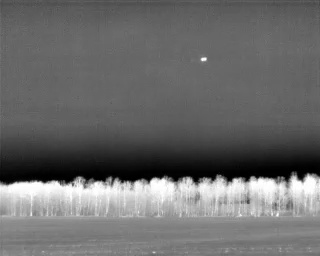DRONE: (197, 53, 211, 66)
